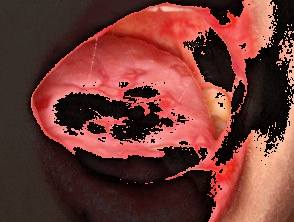SJS-TEN: (39, 57, 189, 119)
